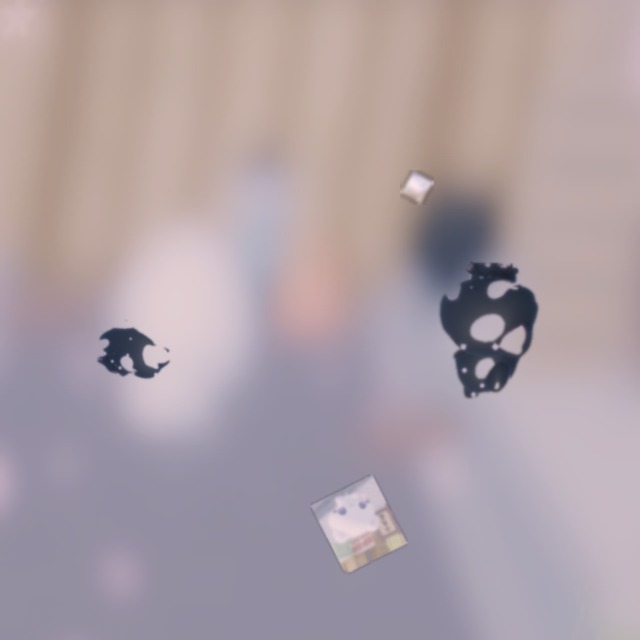urso_branco: (310, 474, 408, 575), (400, 170, 434, 205)
urso_preto: (427, 261, 544, 410), (75, 303, 189, 404)
